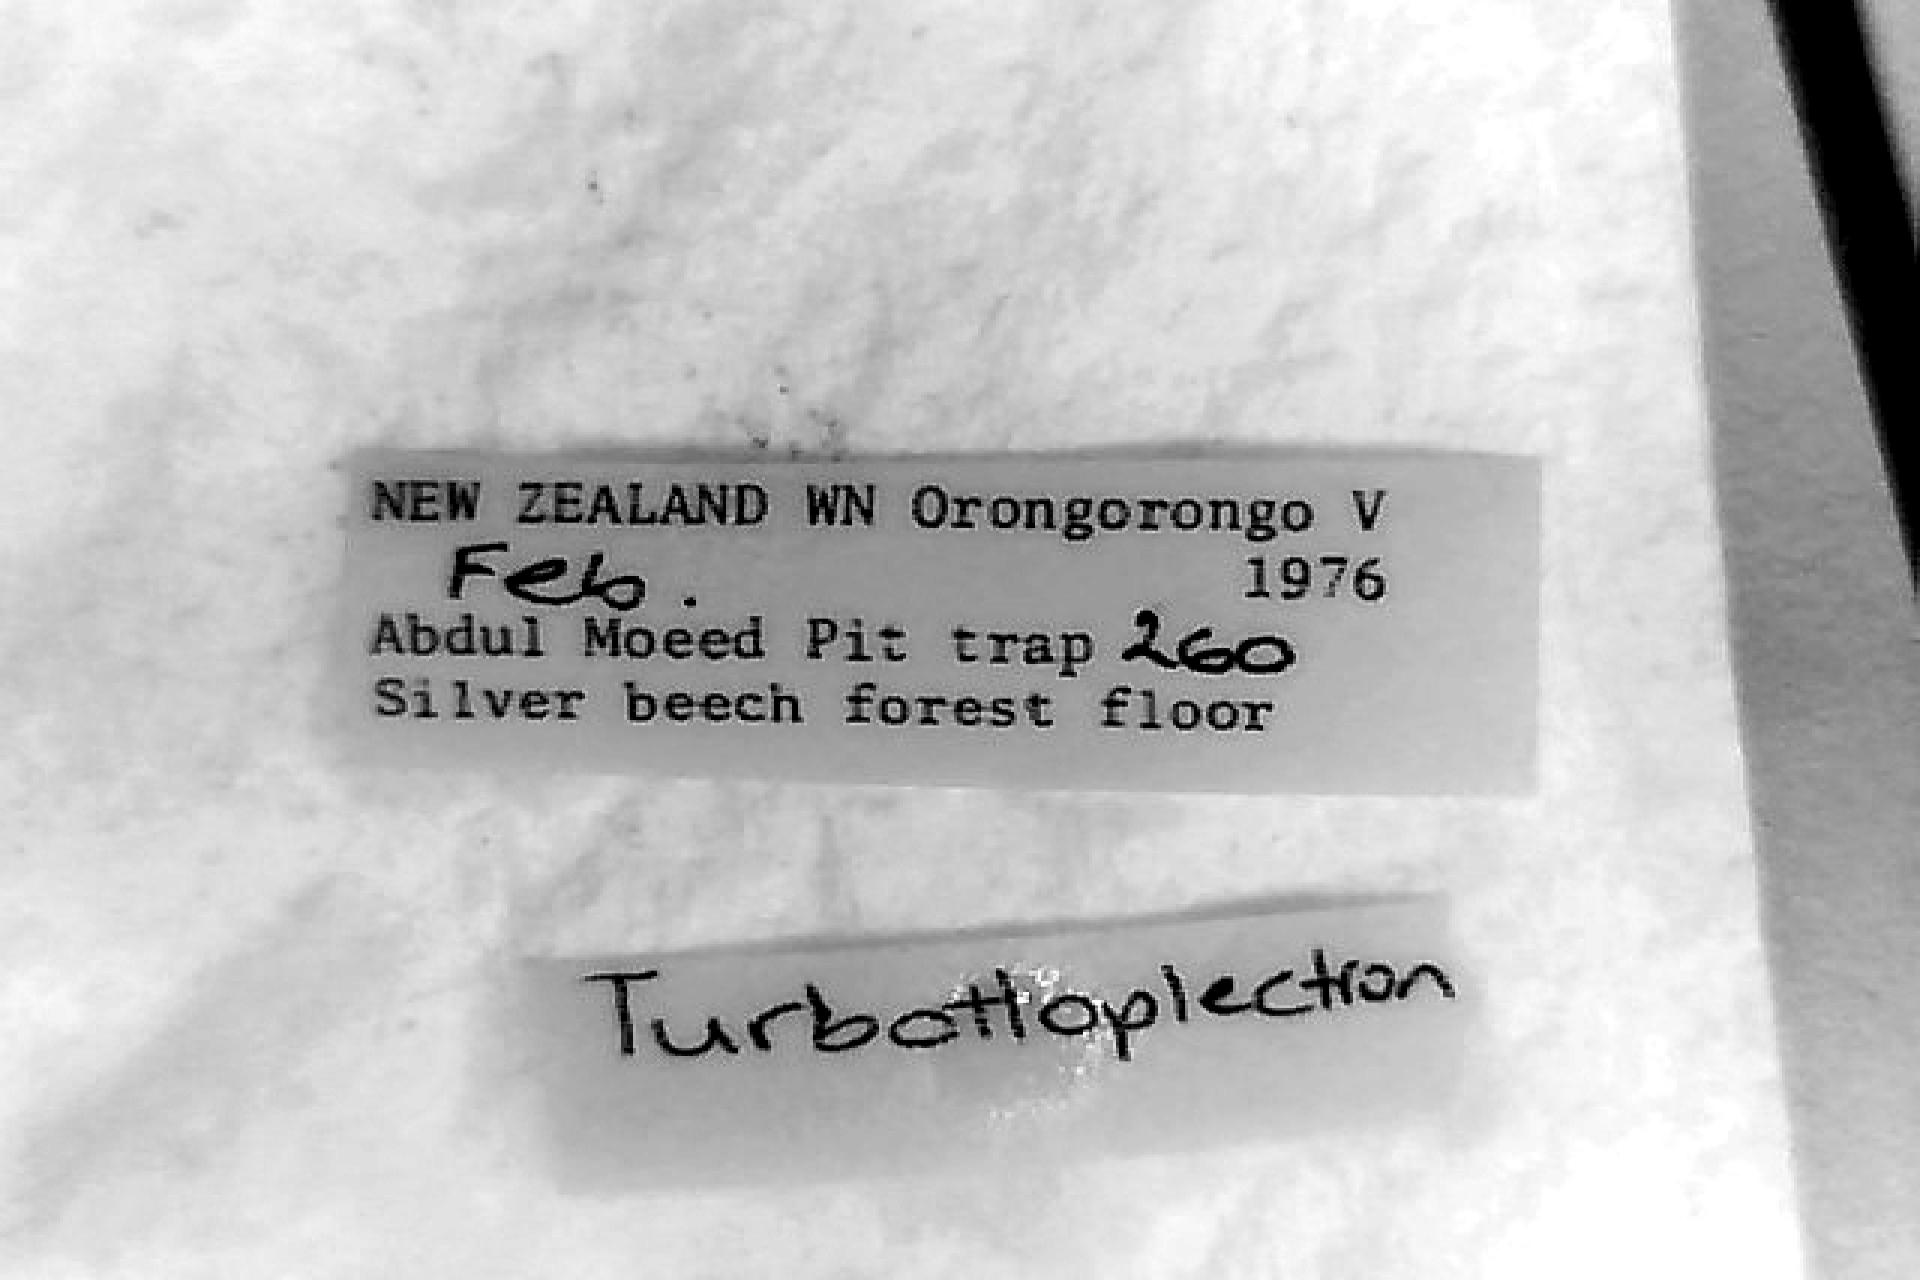hand_label: (536, 897, 1463, 1189)
mixed_label: (346, 453, 1541, 791)
